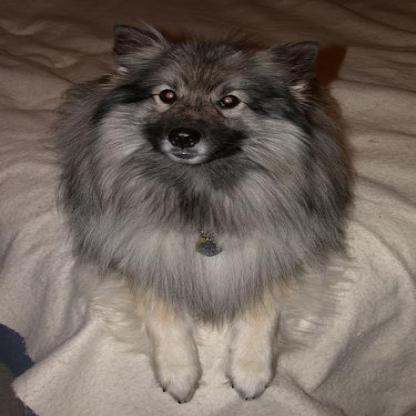keeshond: (50, 16, 352, 400)
